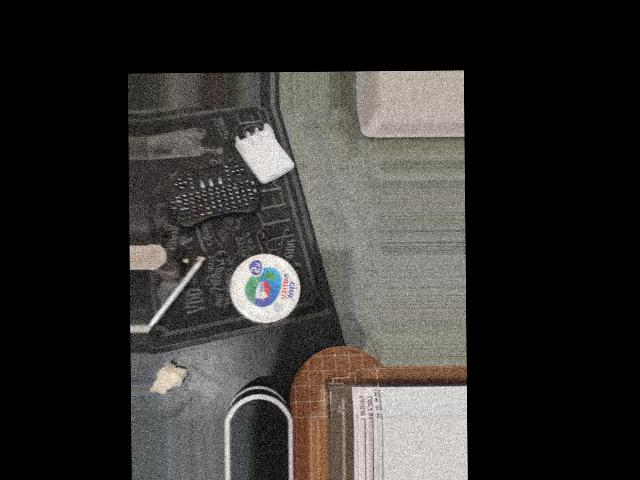cotage: (227, 250, 314, 327)
